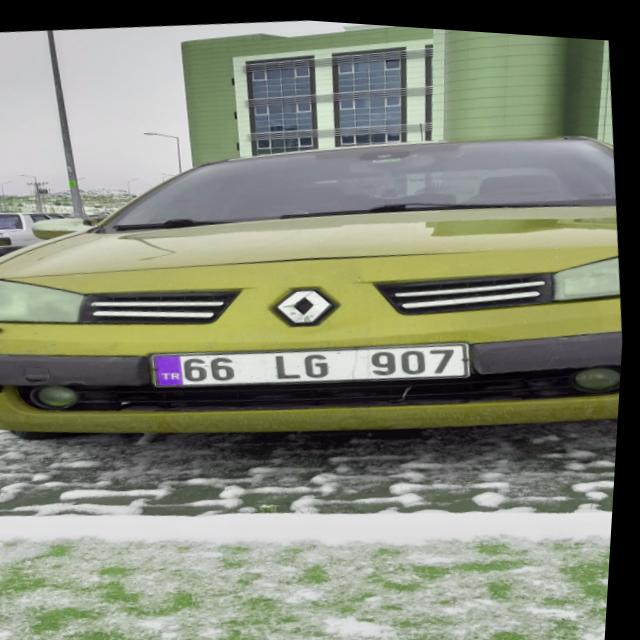license_plate: (154, 319, 475, 401)
